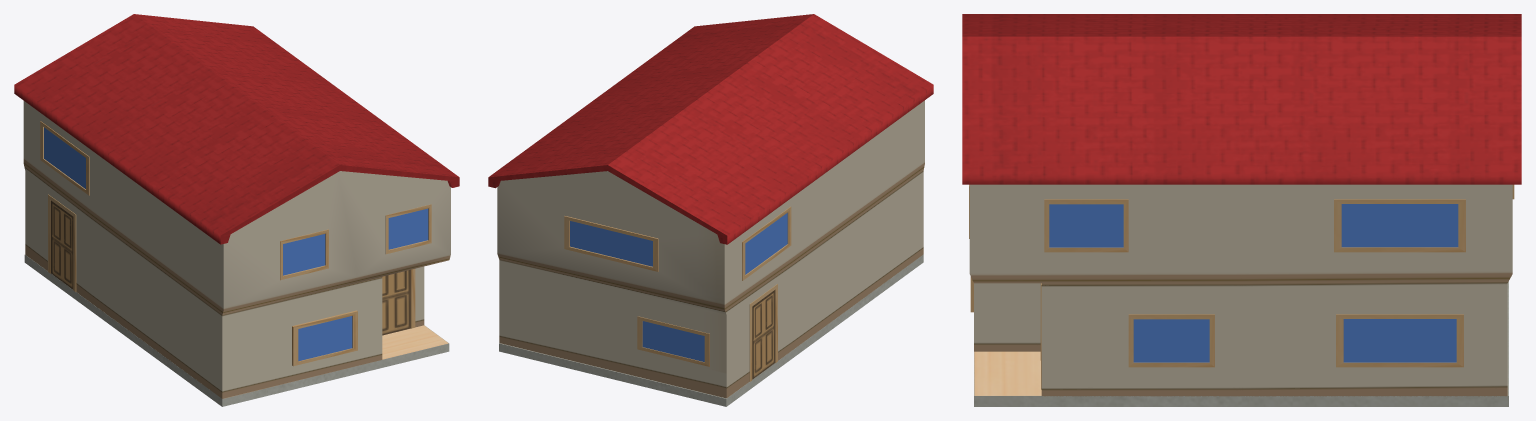
File: House_007_Single.fbx
The picture shows the model from 3 angles, left to right: view 1: azimuth 30°, elevation 25°; view 2: azimuth 150°, elevation 25°; view 3: azimuth 270°, elevation 25°; orthographic projection. The views are drawn at different scales.
Visible parts, largest first — view 1: House_007, Windows, Door_02, Door_01; view 2: House_007, Windows, Door_02; view 3: House_007, Windows.
Part boxes in pixels (x1,y1,x2,y2): House_007: [14, 14, 459, 406]; Windows: [44, 127, 428, 361]; Door_02: [50, 200, 73, 289]; Door_01: [382, 269, 410, 335]; House_007: [488, 14, 933, 406]; Windows: [570, 213, 787, 361]; Door_02: [752, 290, 774, 379]; House_007: [962, 14, 1521, 406]; Windows: [1049, 204, 1458, 362].
Bounding box in the file's own units: 41.42 × 36.01 × 61.89.
